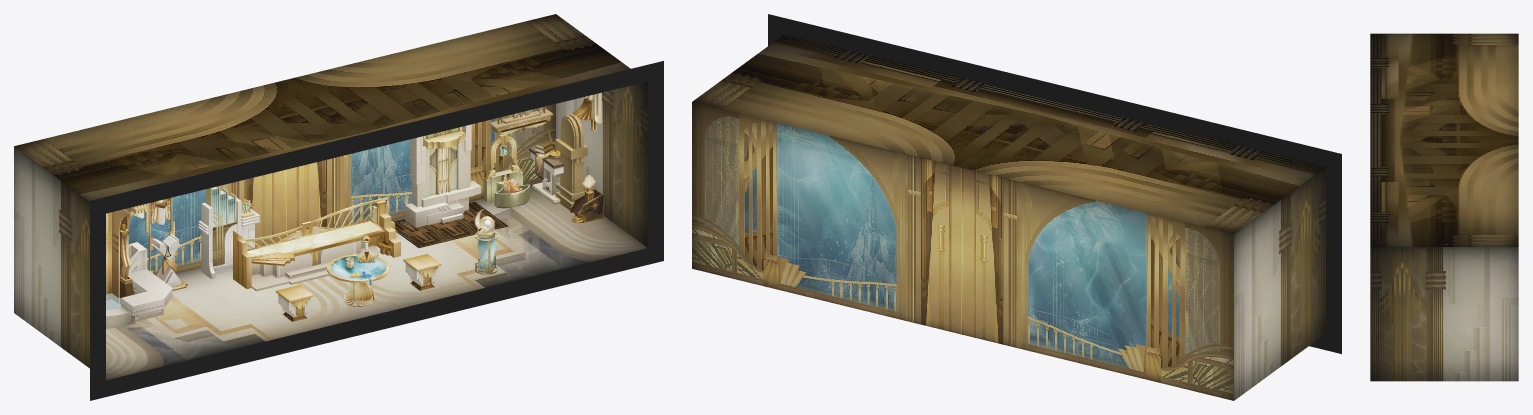
File: clmsRoom.glb
The picture shows the model from 3 angles, left to right: view 1: azimuth 30°, elevation 25°; view 2: azimuth 150°, elevation 25°; view 3: azimuth 270°, elevation 25°; orthographic projection. The views are drawn at different scales.
Parts seen in each view (by area): view 1: CC_ROOM_room, CC_ROOM_floor, CC_ROOM_frame, furni_clmsRoom_longchair_01, furni_clmsRoom_pool_01, furni_clmsRoom_stoneclock_02, furni_clmsRoom_roundtable_01, furni_clmsRoom_carpet_01, furni_clmsRoom_sidetable_02, furni_clmsRoom_stoneclock_01, furni_clmsRoom_stonelamp_01, furni_clmsRoom_sidetable_01 (+16 smaller); view 2: CC_ROOM_room, CC_ROOM_frame, CC_ROOM_LDoor; view 3: CC_ROOM_room, CC_ROOM_RDoor.
Boxes of the visible parts, left/top/right/bottom form: CC_ROOM_room: left=14, top=14, right=647, bottom=356; CC_ROOM_floor: left=106, top=186, right=647, bottom=380; CC_ROOM_frame: left=90, top=61, right=663, bottom=400; furni_clmsRoom_longchair_01: left=233, top=200, right=400, bottom=291; furni_clmsRoom_pool_01: left=106, top=208, right=172, bottom=328; furni_clmsRoom_stoneclock_02: left=410, top=124, right=471, bottom=207; furni_clmsRoom_roundtable_01: left=327, top=249, right=390, bottom=306; furni_clmsRoom_carpet_01: left=393, top=202, right=507, bottom=247; furni_clmsRoom_sidetable_02: left=542, top=114, right=583, bottom=201; furni_clmsRoom_stoneclock_01: left=405, top=180, right=481, bottom=227; furni_clmsRoom_stonelamp_01: left=201, top=197, right=254, bottom=279; furni_clmsRoom_sidetable_01: left=529, top=138, right=587, bottom=210; CC_ROOM_room: left=692, top=34, right=1325, bottom=400; CC_ROOM_frame: left=768, top=14, right=1341, bottom=353; CC_ROOM_LDoor: left=1293, top=268, right=1312, bottom=356; CC_ROOM_room: left=1370, top=33, right=1518, bottom=381; CC_ROOM_RDoor: left=1392, top=320, right=1422, bottom=381.
Bounding box in the file's own units: 7.92 × 2.64 × 2.2.
5 materials, 4 textured.
